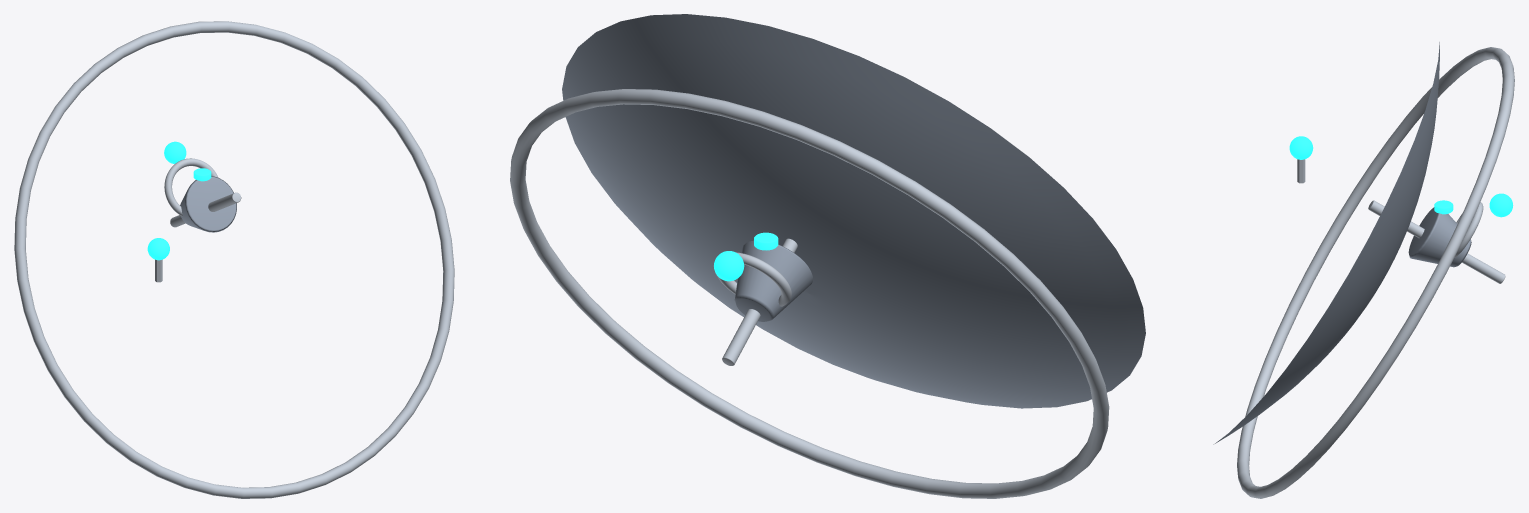
File: tower_skywatch_range_s4.glb
3 renders of one model, left to right at view 1: azimuth 30°, elevation 25°; view 2: azimuth 150°, elevation 25°; view 3: azimuth 270°, elevation 25°, orthographic. The views are drawn at different scales.
Parts seen in each view (by area): view 1: skywatch_wide_rim, skywatch_feed_horn, skywatch_feed_horn_ring; view 2: skywatch_wide_dish, skywatch_wide_rim, skywatch_feed_horn, skywatch_wide_feed_arm, skywatch_feed_horn_ring, skywatch_wide_feed_tip; view 3: skywatch_wide_rim, skywatch_wide_dish, skywatch_feed_horn, skywatch_wide_feed_arm, skywatch_iff_lamp, skywatch_wide_feed_tip, skywatch_feed_horn_ring.
Part boxes in pixels (bbox=[...]): skywatch_wide_rim: bbox=[14, 21, 454, 498]; skywatch_feed_horn: bbox=[180, 176, 236, 232]; skywatch_feed_horn_ring: bbox=[164, 158, 218, 216]; skywatch_wide_dish: bbox=[562, 14, 1145, 408]; skywatch_wide_rim: bbox=[510, 89, 1109, 498]; skywatch_feed_horn: bbox=[734, 240, 812, 321]; skywatch_wide_feed_arm: bbox=[722, 238, 797, 365]; skywatch_feed_horn_ring: bbox=[717, 252, 791, 306]; skywatch_wide_feed_tip: bbox=[714, 251, 744, 281]; skywatch_wide_rim: bbox=[1237, 47, 1514, 498]; skywatch_wide_dish: bbox=[1213, 42, 1439, 444]; skywatch_feed_horn: bbox=[1408, 207, 1471, 267]; skywatch_wide_feed_arm: bbox=[1368, 200, 1505, 283]; skywatch_iff_lamp: bbox=[1289, 136, 1313, 159]; skywatch_wide_feed_tip: bbox=[1489, 193, 1513, 217]; skywatch_feed_horn_ring: bbox=[1454, 202, 1483, 257].
Bounding box in the file's own units: 1.52 × 1.4 × 1.01.
